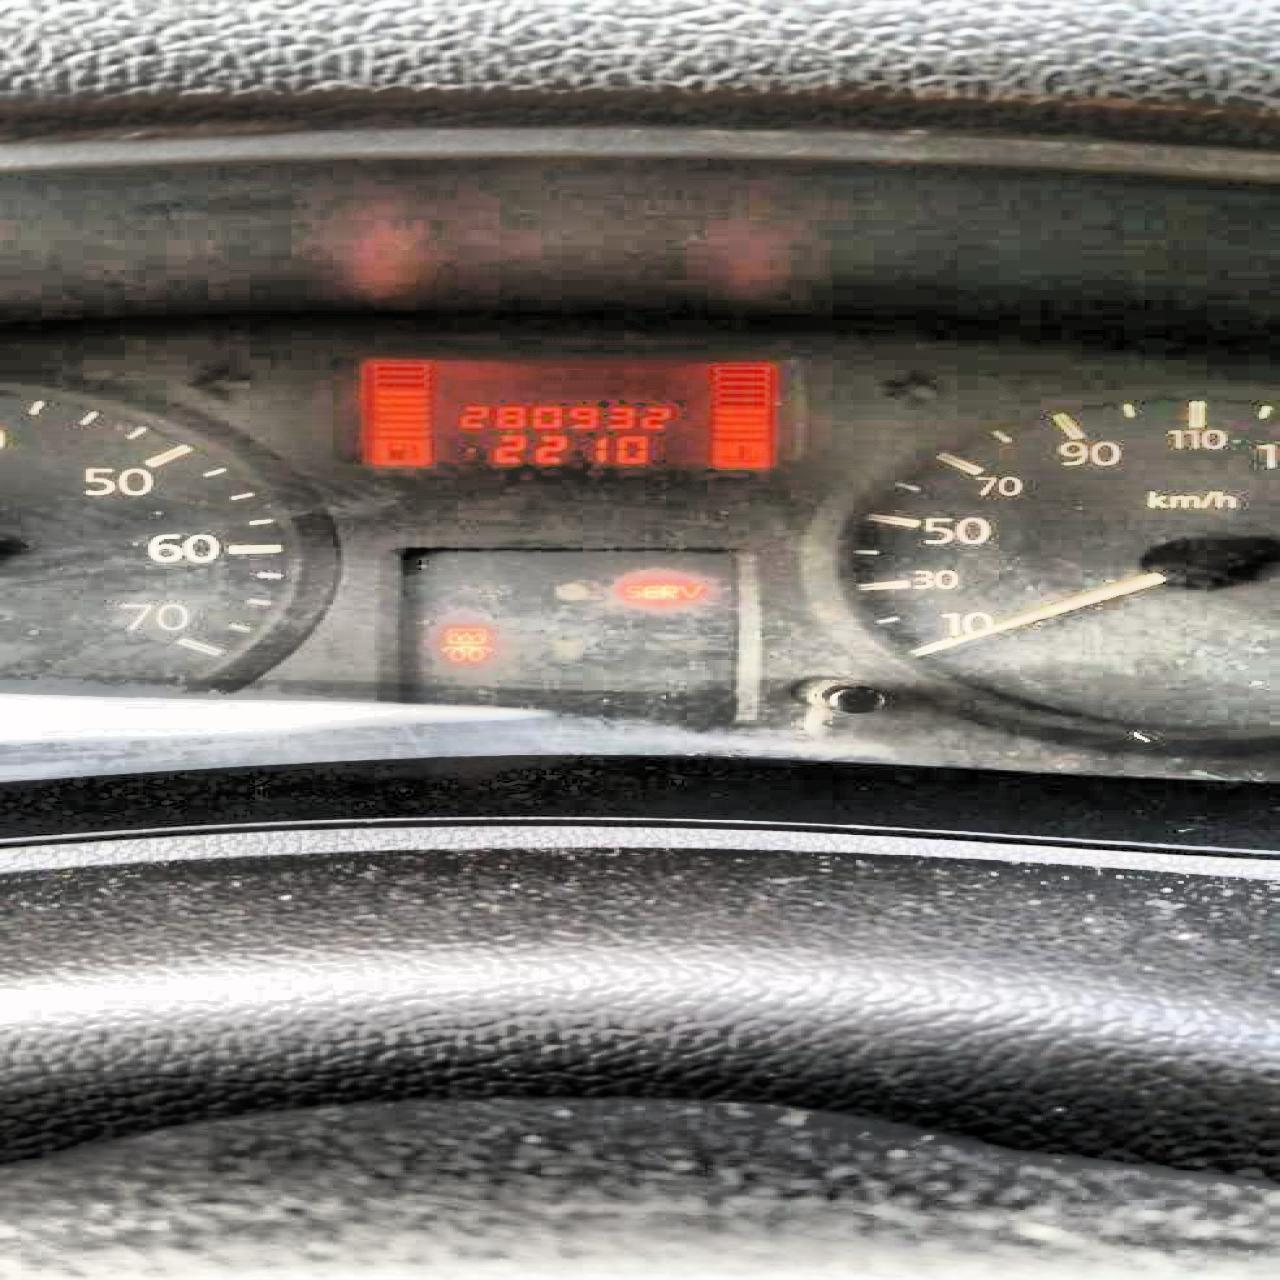0: (611, 434, 648, 464), (525, 406, 561, 429)
1: (583, 434, 611, 463)
2: (489, 433, 526, 463), (531, 434, 567, 463), (452, 403, 486, 429), (638, 406, 672, 429)
3: (604, 406, 632, 429)
8: (491, 406, 525, 429)
9: (565, 406, 595, 429)
odometer: (349, 355, 783, 471)
